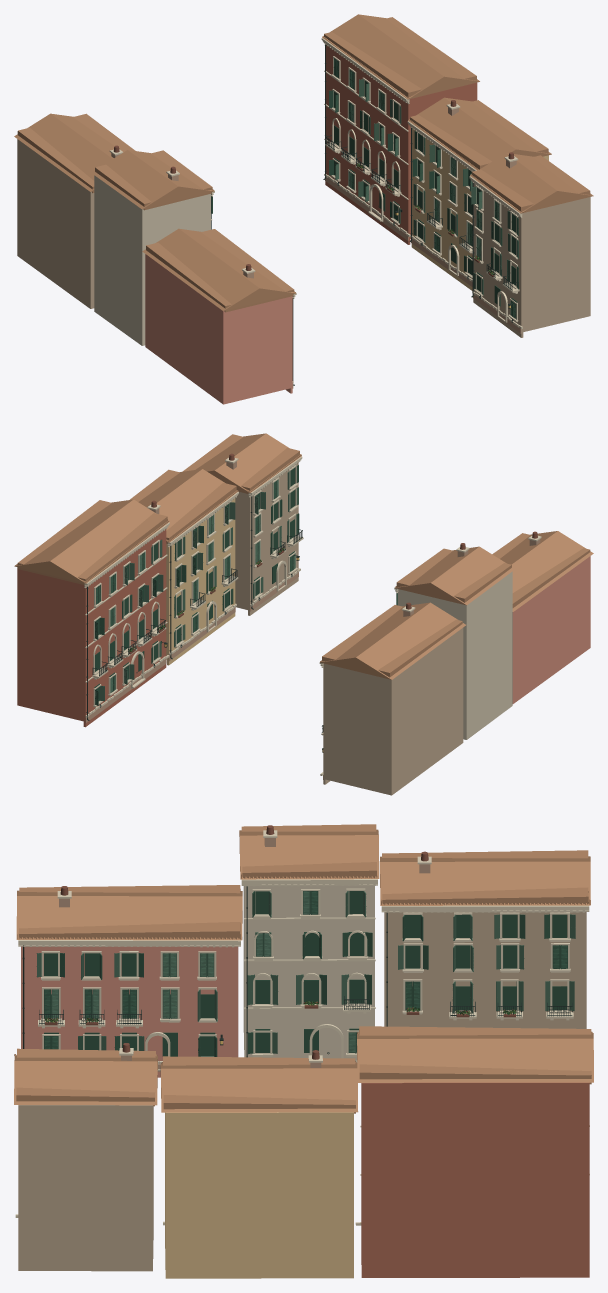
The model's file is canal-09.glb.
3 renders of one model, top to bottom at view 1: azimuth 30°, elevation 25°; view 2: azimuth 150°, elevation 25°; view 3: azimuth 270°, elevation 25°, orthographic. The views are drawn at different scales.
Parts seen in each view (by area): view 1: Main elevations / kit:roof, Main elevations / kit:walls:5, Main elevations / kit:walls:1, Distant elevations / kit:roof, Main elevations / kit:stone, Main elevations / kit:walls:3, Main elevations / kit:walls:4, Distant elevations / kit:walls:4, Distant elevations / kit:greenDark, Main elevations / kit:green, Distant elevations / kit:walls:3, Main elevations / kit:walls:2 (+8 smaller); view 2: Main elevations / kit:roof, Main elevations / kit:walls:4, Main elevations / kit:walls:5, Distant elevations / kit:walls:5, Distant elevations / kit:roof, Main elevations / kit:stone, Main elevations / kit:walls:1, Main elevations / kit:walls:3, Main elevations / kit:green, Main elevations / kit:walls:2, Distant elevations / kit:greenDark, Distant elevations / kit:walls:2 (+7 smaller); view 3: Main elevations / kit:walls:4, Main elevations / kit:roof, Main elevations / kit:walls:5, Main elevations / kit:walls:2, Distant elevations / kit:roof, Main elevations / kit:stone, Main elevations / kit:walls:1, Distant elevations / kit:greenDark, Main elevations / kit:walls:3, Distant elevations / kit:walls:3, Main elevations / kit:green, Distant elevations / kit:walls:1 (+5 smaller).
Boxes of the visible parts, x1=… form: Main elevations / kit:roof: x1=14, y1=14, x2=593, y2=310; Main elevations / kit:walls:5: x1=17, y1=139, x2=590, y2=337; Main elevations / kit:walls:1: x1=145, y1=254, x2=292, y2=404; Distant elevations / kit:roof: x1=17, y1=17, x2=590, y2=312; Main elevations / kit:stone: x1=109, y1=38, x2=522, y2=383; Main elevations / kit:walls:3: x1=94, y1=175, x2=210, y2=345; Main elevations / kit:walls:4: x1=325, y1=44, x2=477, y2=244; Distant elevations / kit:walls:4: x1=328, y1=61, x2=475, y2=239; Distant elevations / kit:greenDark: x1=334, y1=80, x2=517, y2=306; Main elevations / kit:green: x1=335, y1=79, x2=518, y2=318; Distant elevations / kit:walls:3: x1=144, y1=194, x2=210, y2=345; Main elevations / kit:walls:2: x1=411, y1=149, x2=548, y2=290; Main elevations / kit:roof: x1=14, y1=433, x2=593, y2=679; Main elevations / kit:walls:4: x1=17, y1=529, x2=166, y2=727; Main elevations / kit:walls:5: x1=248, y1=463, x2=463, y2=795; Distant elevations / kit:walls:5: x1=235, y1=485, x2=389, y2=794; Distant elevations / kit:roof: x1=17, y1=434, x2=590, y2=677; Main elevations / kit:stone: x1=84, y1=456, x2=541, y2=775; Main elevations / kit:walls:1: x1=512, y1=556, x2=590, y2=703; Main elevations / kit:walls:3: x1=464, y1=571, x2=512, y2=739; Main elevations / kit:green: x1=100, y1=471, x2=397, y2=701; Main elevations / kit:walls:2: x1=167, y1=498, x2=235, y2=665; Distant elevations / kit:greenDark: x1=94, y1=468, x2=294, y2=700; Distant elevations / kit:walls:2: x1=166, y1=523, x2=229, y2=659; Main elevations / kit:walls:4: x1=361, y1=1082, x2=589, y2=1277; Main elevations / kit:roof: x1=14, y1=829, x2=593, y2=1112; Main elevations / kit:walls:5: x1=18, y1=912, x2=586, y2=1271; Main elevations / kit:walls:2: x1=165, y1=1112, x2=353, y2=1278; Distant elevations / kit:roof: x1=16, y1=824, x2=591, y2=1113; Main elevations / kit:stone: x1=15, y1=830, x2=589, y2=1225; Main elevations / kit:walls:1: x1=21, y1=946, x2=237, y2=1077; Distant elevations / kit:greenDark: x1=44, y1=891, x2=567, y2=1056; Main elevations / kit:walls:3: x1=245, y1=885, x2=372, y2=1062; Distant elevations / kit:walls:3: x1=243, y1=885, x2=374, y2=1058; Main elevations / kit:green: x1=36, y1=891, x2=575, y2=1053; Distant elevations / kit:walls:1: x1=28, y1=946, x2=238, y2=1063.
Bounding box in the file's own units: 44.64 × 18.55 × 42.21.
